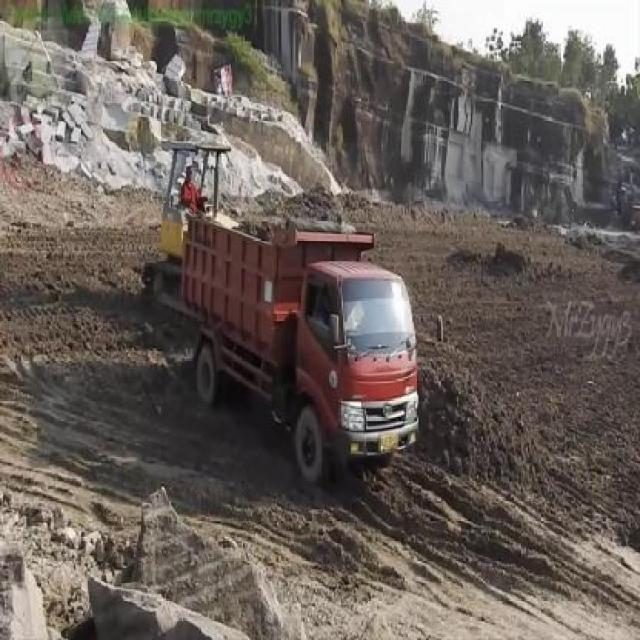Dump Truck: (177, 197, 420, 475)
